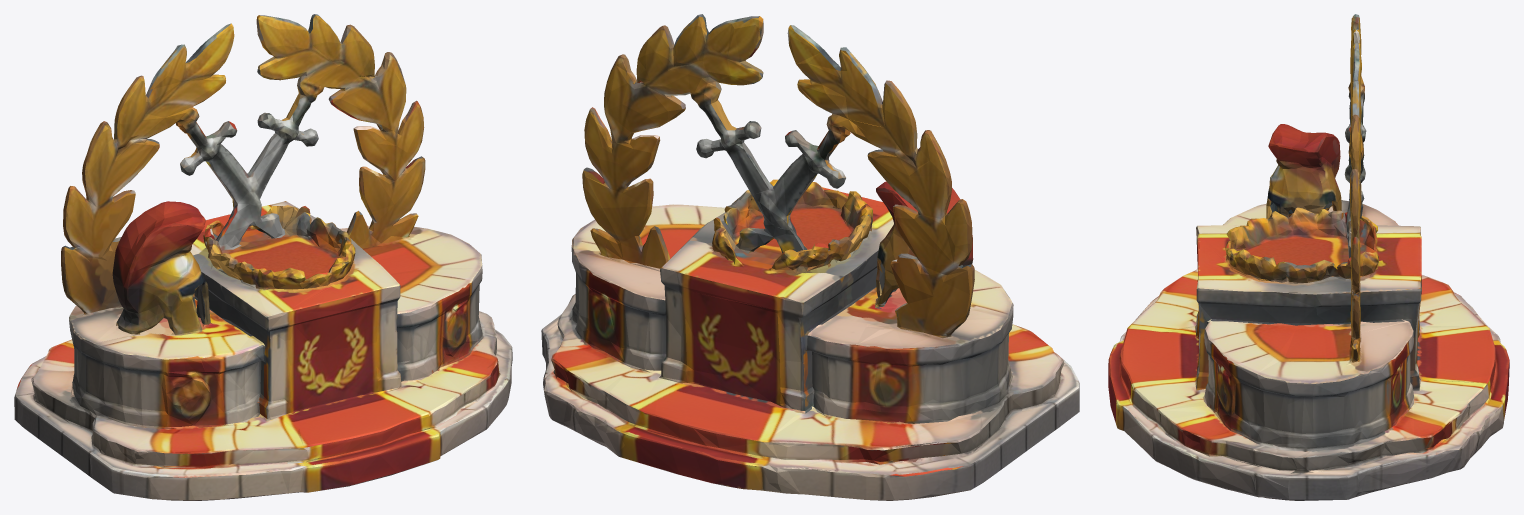
Rendered from arena_trophy_podium_1117.glb.
The picture shows the model from 3 angles, left to right: view 1: azimuth 30°, elevation 25°; view 2: azimuth 150°, elevation 25°; view 3: azimuth 270°, elevation 25°; orthographic projection. The views are drawn at different scales.
Parts seen in each view (by area): view 1: tmpkaufcjhm.ply; view 2: tmpkaufcjhm.ply; view 3: tmpkaufcjhm.ply.
Boxes of the visible parts, <box> form: tmpkaufcjhm.ply: <box>14,14,512,500</box>; tmpkaufcjhm.ply: <box>541,14,1079,500</box>; tmpkaufcjhm.ply: <box>1108,14,1509,500</box>.
Size of the model in its own units: 1.99 by 1.62 by 1.64.
Materials: 1 (1 with a texture image).
